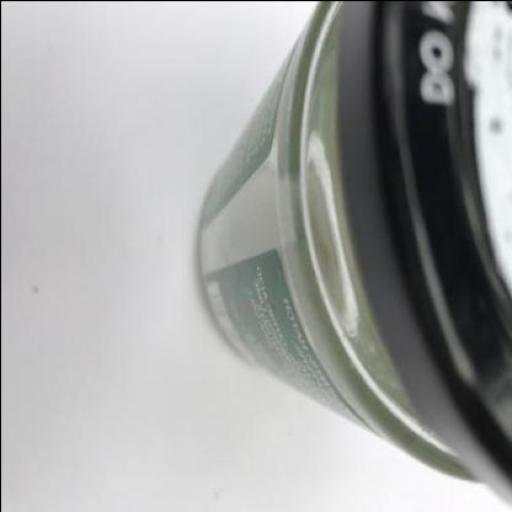glass: (194, 2, 511, 504)
